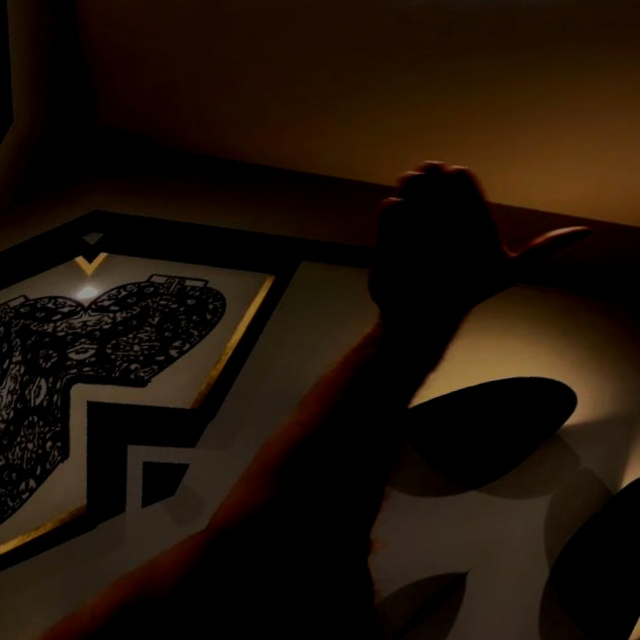Paper: (0, 593, 76, 640)
